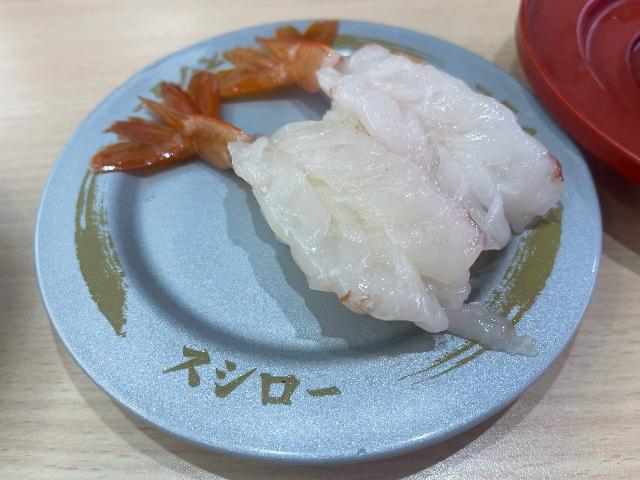janred: (533, 0, 640, 206)
janwhite: (79, 51, 547, 422)
